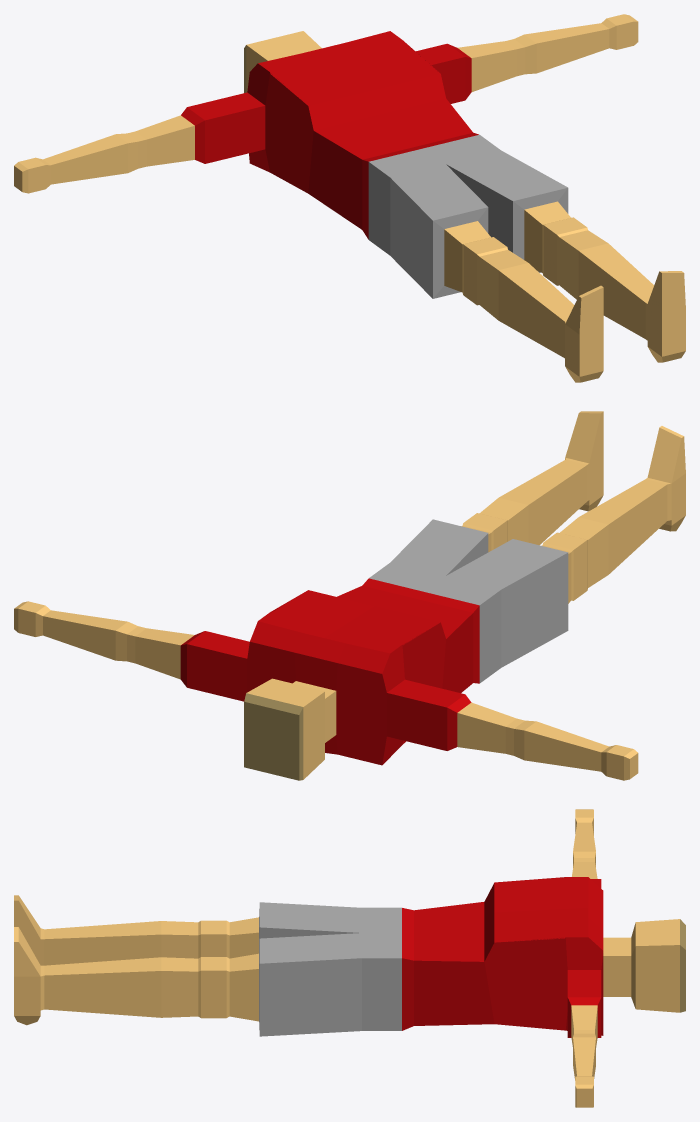
Rendered from PlayerMrBeast.fbx.
3 renders of one model, top to bottom at view 1: azimuth 30°, elevation 25°; view 2: azimuth 150°, elevation 25°; view 3: azimuth 270°, elevation 25°, orthographic. The views are drawn at different scales.
Parts seen in each view (by area): view 1: Cube; view 2: Cube; view 3: Cube.
Part boxes in pixels (x1,y1,x2,y2): Cube: [14, 14, 685, 382]; Cube: [14, 411, 685, 780]; Cube: [14, 809, 685, 1107].
Size of the model in its own units: 1215 by 205 by 1234.
